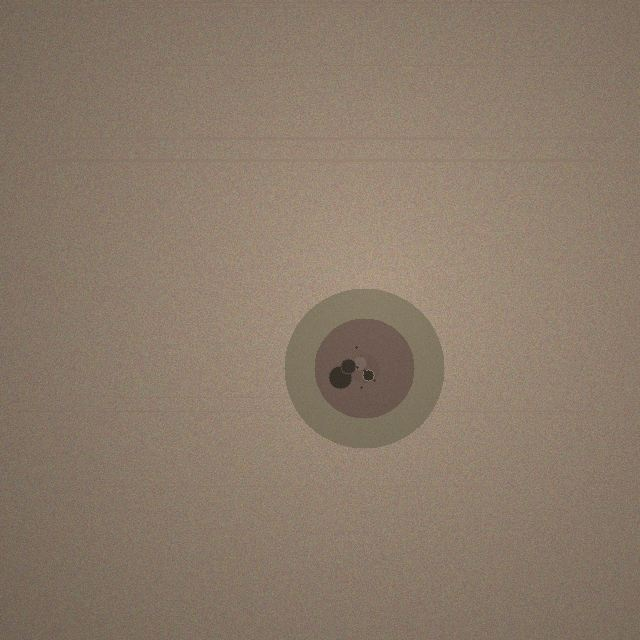shrinkage: (284, 288, 444, 448)
